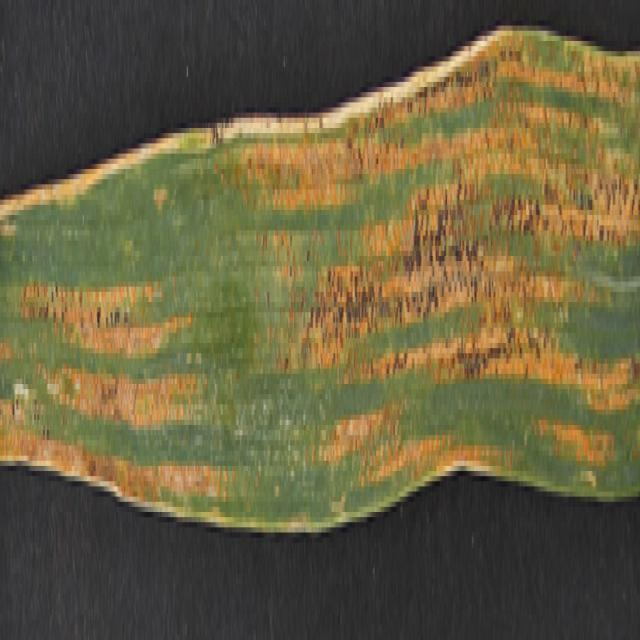leaf rust: (1, 31, 639, 568)
